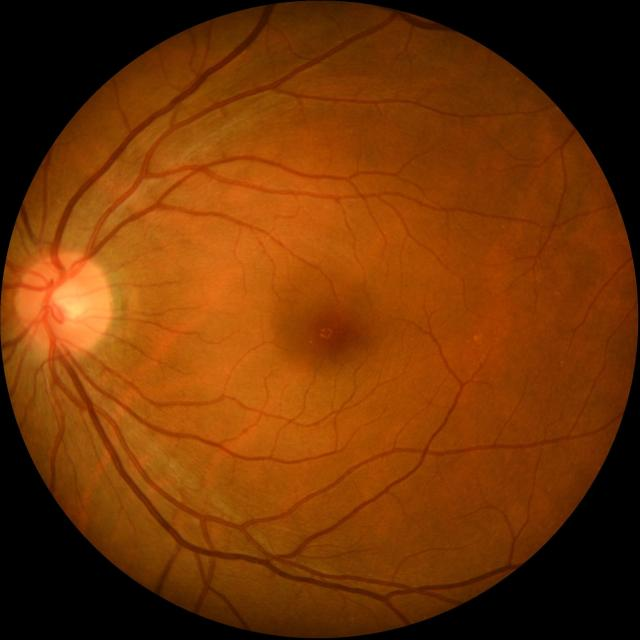OC: (51, 281, 84, 321)
OD: (15, 252, 110, 350)
